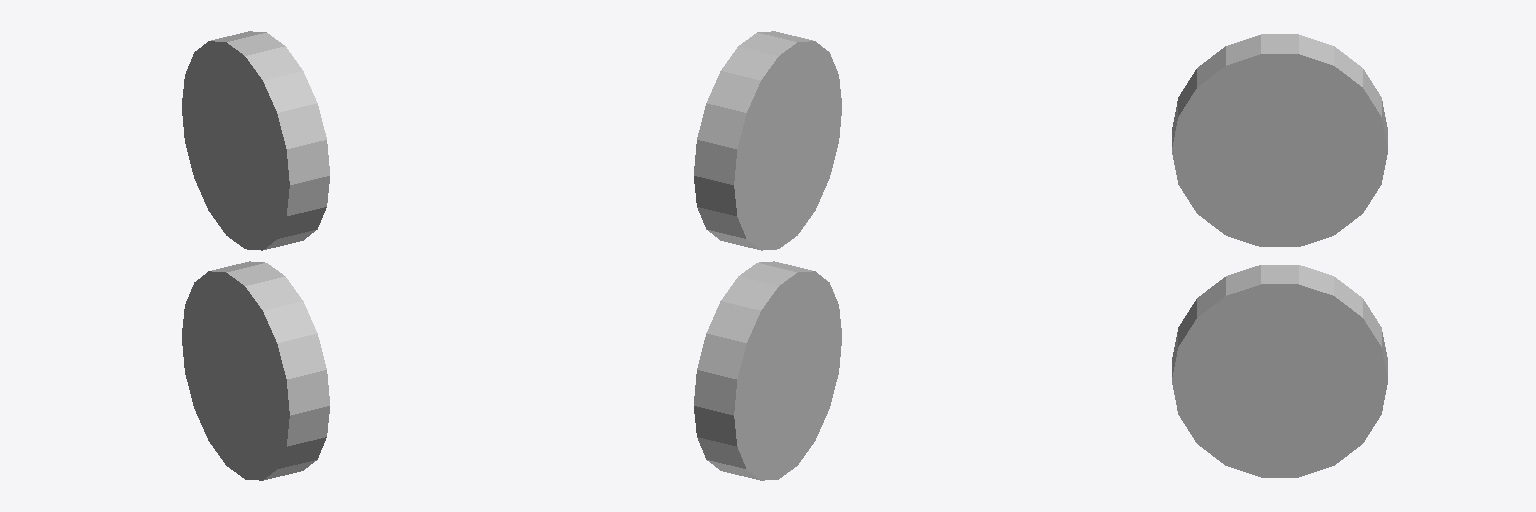
File: Baffle Enceinte Concert.obj
3 views of the same model, side by side, from view 1: azimuth 30°, elevation 25°; view 2: azimuth 150°, elevation 25°; view 3: azimuth 270°, elevation 25° (orthographic).
Visible parts, largest first — view 1: Cylinder001, Cylinder002; view 2: Cylinder001, Cylinder002; view 3: Cylinder001, Cylinder002.
Part boxes in pixels (bbox=[...]): Cylinder001: bbox=[182, 31, 329, 250]; Cylinder002: bbox=[182, 261, 329, 480]; Cylinder001: bbox=[694, 31, 841, 250]; Cylinder002: bbox=[694, 261, 841, 480]; Cylinder001: bbox=[1172, 34, 1387, 246]; Cylinder002: bbox=[1172, 265, 1387, 477].
Size of the model in its own units: 3.93 by 39.3 by 18.21.